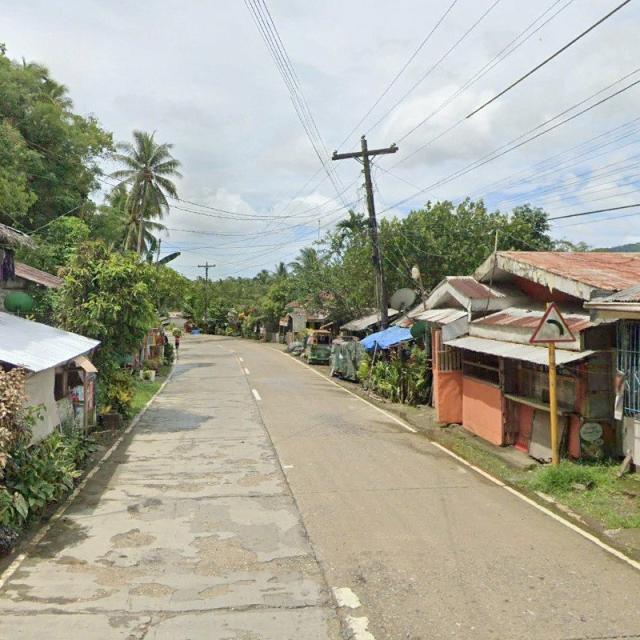warn_left_curve: (529, 302, 576, 343)
